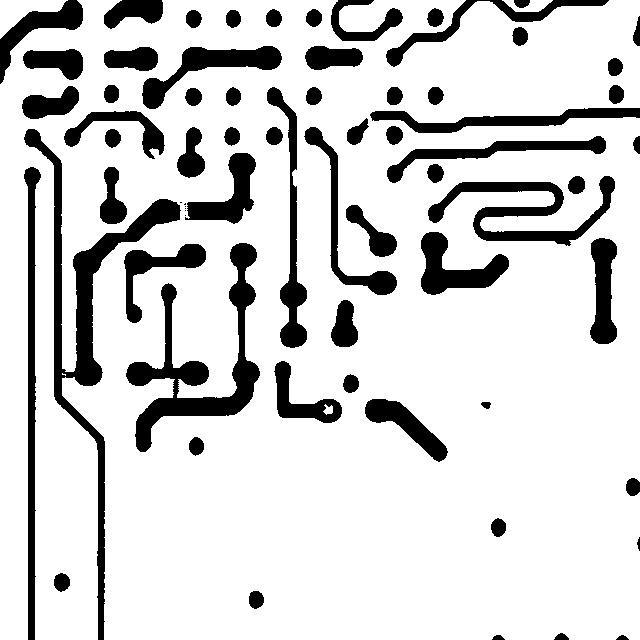copper: (471, 392, 500, 418)
mousebite: (139, 138, 170, 168), (282, 159, 306, 196)
open: (167, 187, 199, 232), (355, 104, 384, 135)
pin-hole: (313, 394, 342, 424)
short: (163, 362, 188, 414), (46, 359, 87, 387)
spur: (232, 189, 263, 220), (545, 228, 580, 255)
